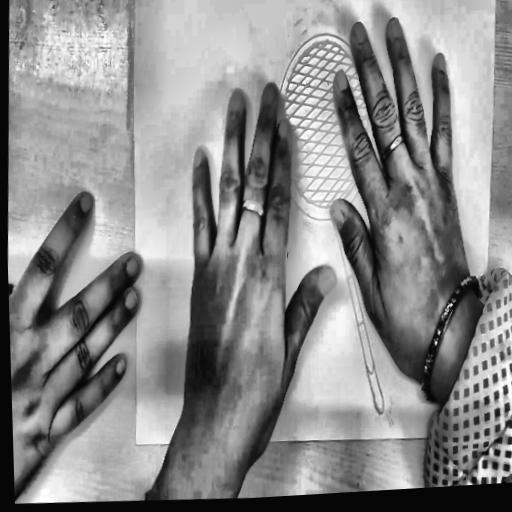badminton: (209, 20, 410, 423)
bottom_left: (472, 423, 482, 438)
bottom_right: (130, 432, 141, 453)
